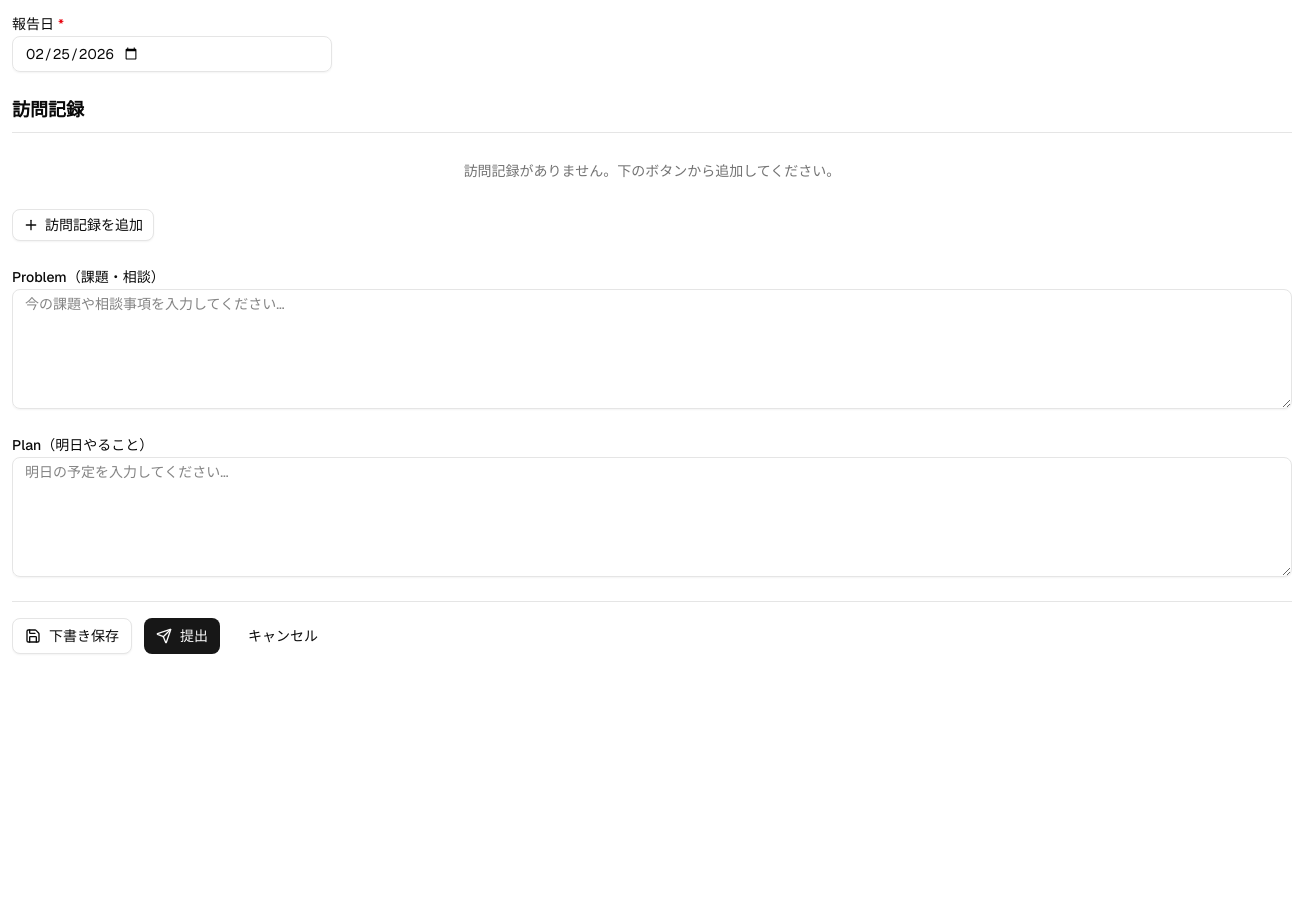
Test: ReportForm › 報告日が空で下書き保存するとバリデーションエラーが表示される
Clear the date field with id "report_date" at (172, 54), box [12, 36, 332, 72]
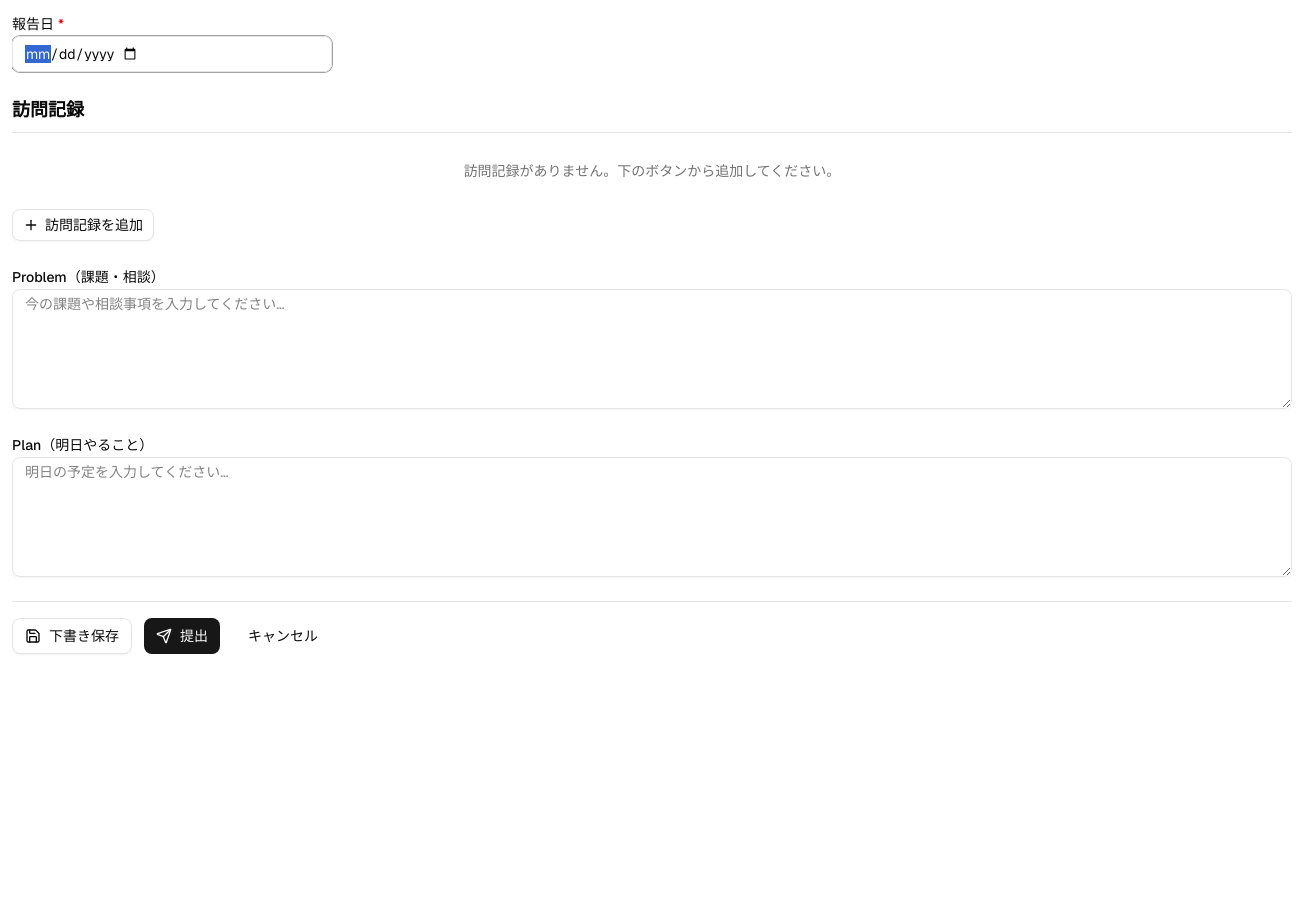
Click the button "下書き保存".
click(72, 636)  # box [12, 618, 132, 654]
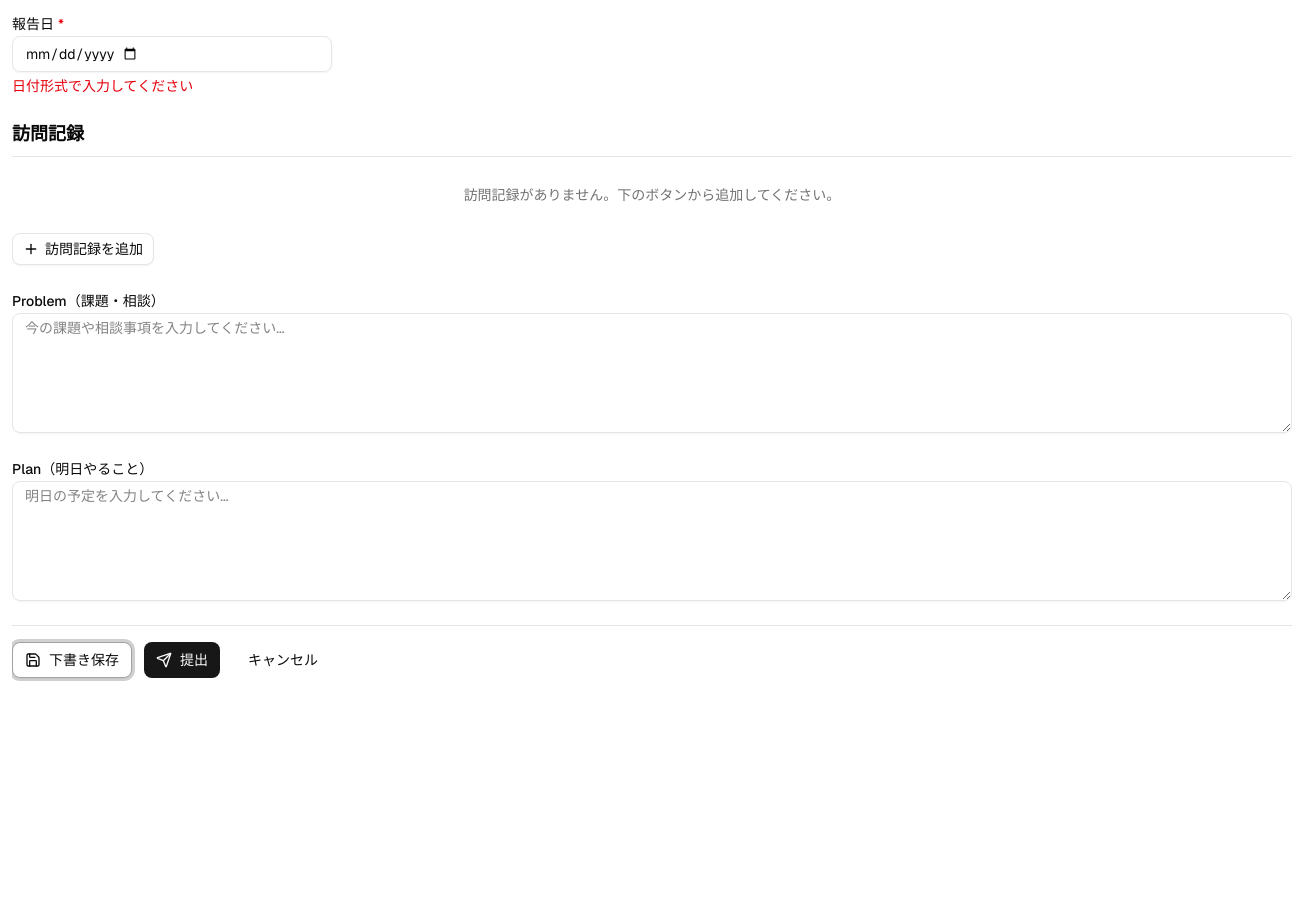
Expected: the message "日付形式で入力してください" is shown, [12, 77, 193, 95]
